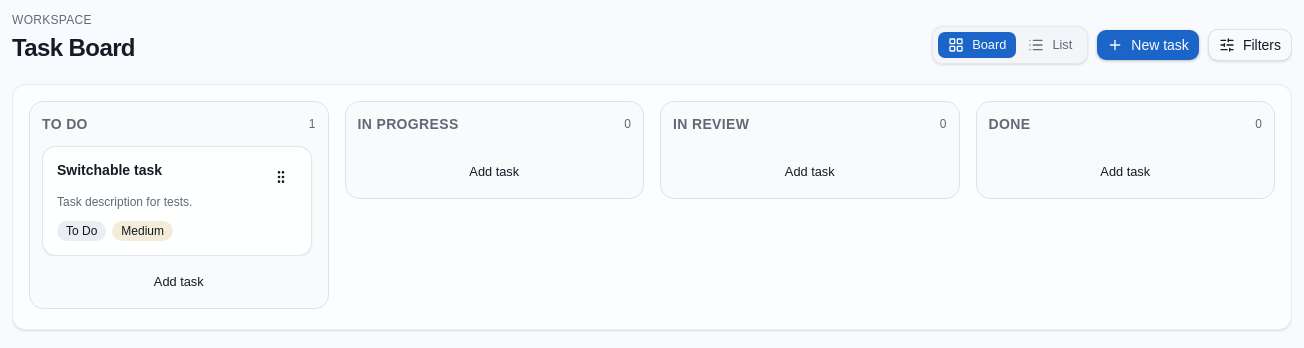
TaskViewSwitcher › switches between board and list on the same route
The width and height of the screenshot is (1304, 348).
Expected: the heading "Task Board" is shown, [12,32,135,64]
Expected: the heading "Switchable task" is shown, [57,161,162,180]
Click the button with aria-label "List view". click: (1050, 45)
box: [1017,31,1083,59]
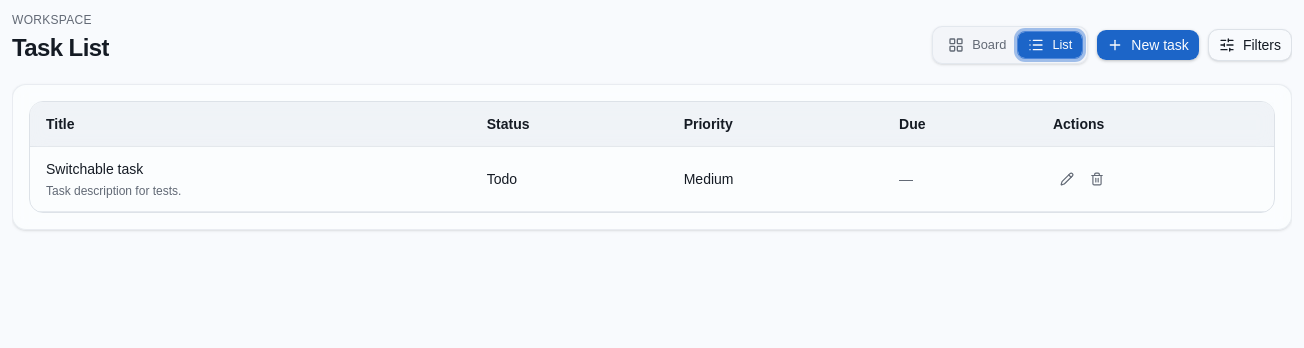
Expected: the text "Switchable task" is shown, [46,161,143,177]
Result: the heading "Task List" is shown at [12,32,109,64]
Click the button with aria-label "Board view". click: (977, 45)
box: [937,31,1017,59]
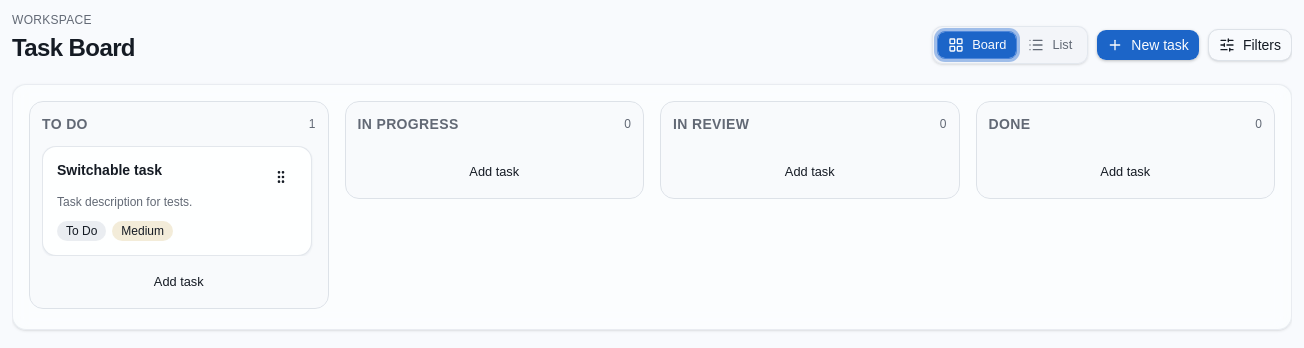
Result: the heading "Task Board" is shown at [12,32,135,64]
